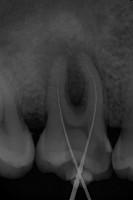Dental Caries: (31, 32, 104, 112)
